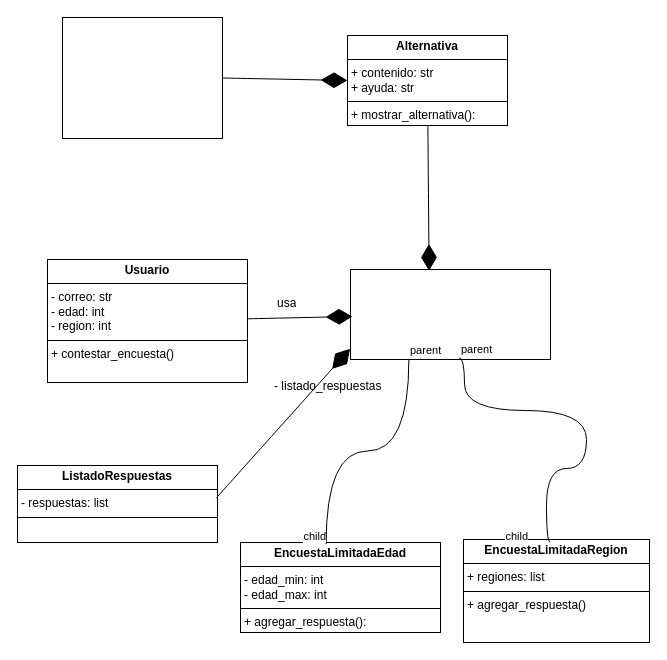
The diagram is 667 pixels wide and 660 high, and some of its shapes have lost their labels. The shapes that lost their labels are listed below. From the top down, each one's centre as x and y in pixels, then its label:
At pixel 142 77: "Pregunta + enunciado: str + ayuda: str + requerido: bool + mostrar_pregunta():".
At pixel 450 314: "Encuesta + nombre: str + mostrar_encuenta(): + agregar_listado_respuesta()".
